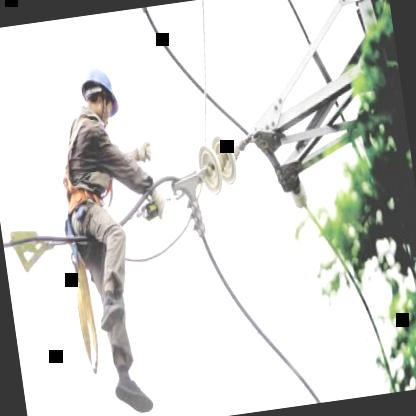helmet: (77, 61, 121, 127)
